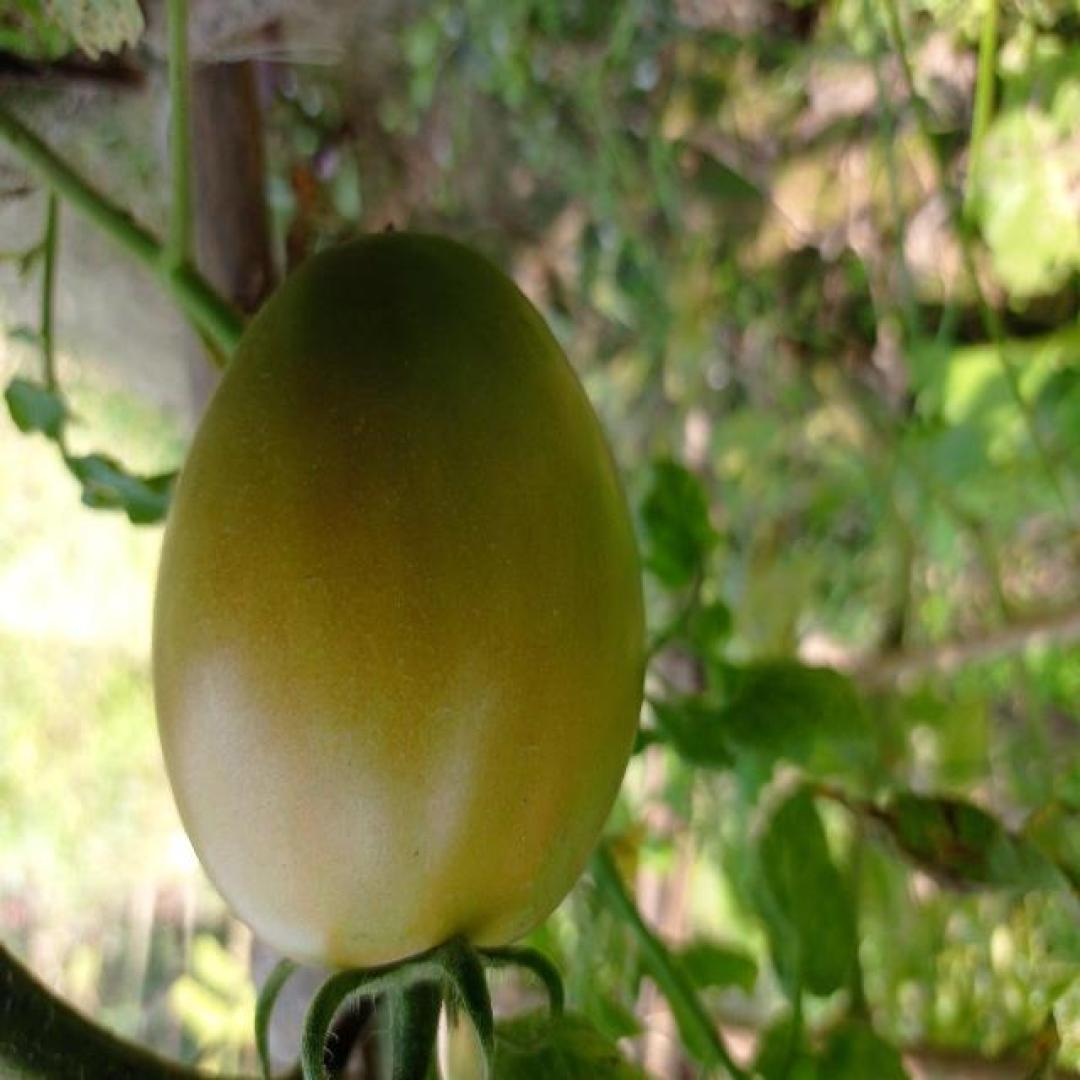setengah_matang: (152, 229, 648, 998)
